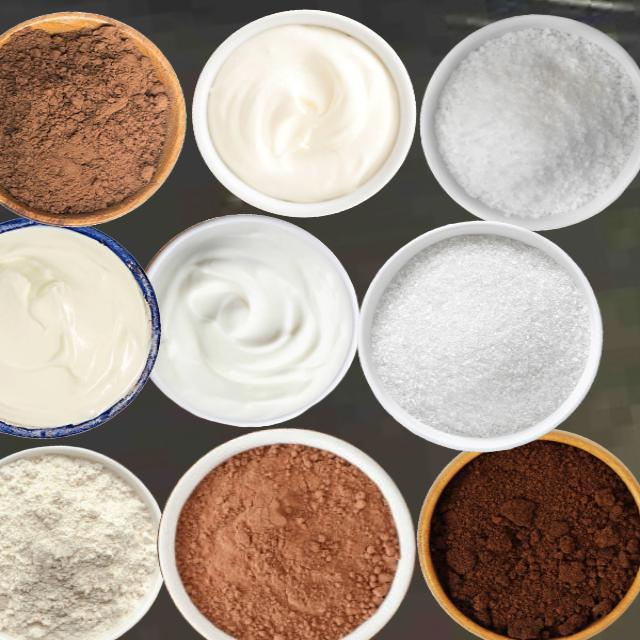Cocoa: (174, 441, 399, 639), (0, 19, 170, 215)
Coffee: (429, 438, 639, 639)
Flour: (0, 454, 159, 639)
Sugar: (369, 233, 591, 438), (433, 25, 638, 218)
